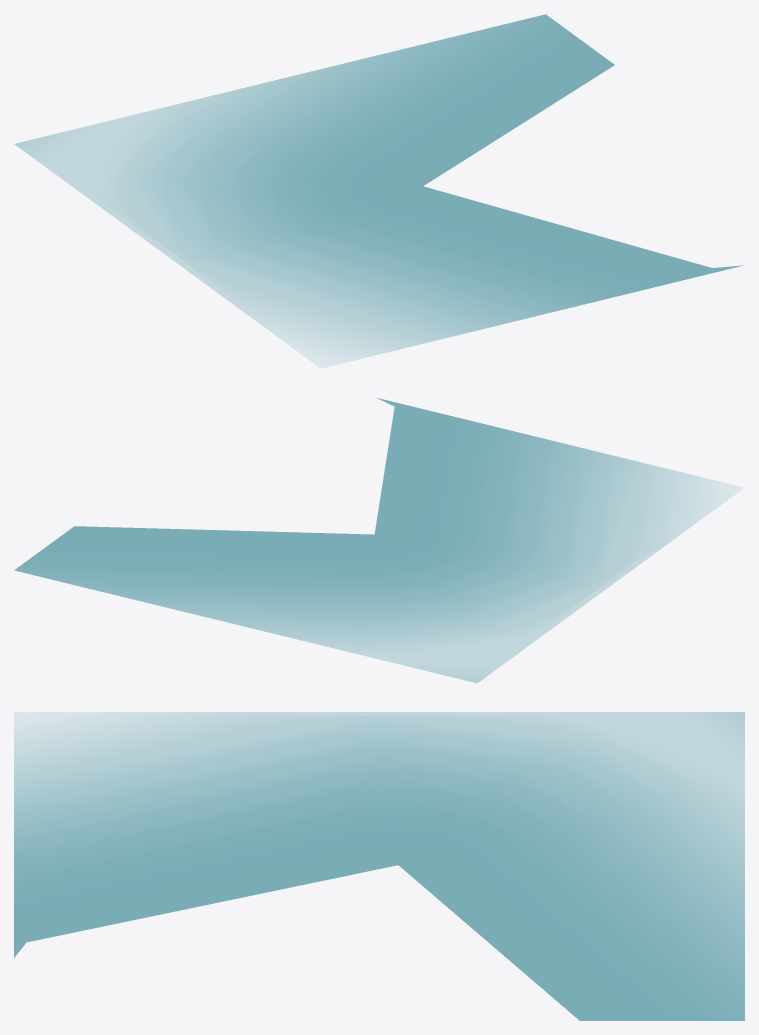
The picture shows the model from 3 angles, top to bottom: view 1: azimuth 30°, elevation 25°; view 2: azimuth 150°, elevation 25°; view 3: azimuth 270°, elevation 25°; orthographic projection. The views are drawn at different scales.
Parts seen in each view (by area): view 1: city; view 2: city; view 3: city.
Part boxes in pixels (x1=…): city: x1=14, y1=14, x2=743, y2=367; city: x1=14, y1=397, x2=742, y2=683; city: x1=14, y1=712, x2=744, y2=1020.
Size of the model in its own units: 500 by 0 by 500.
